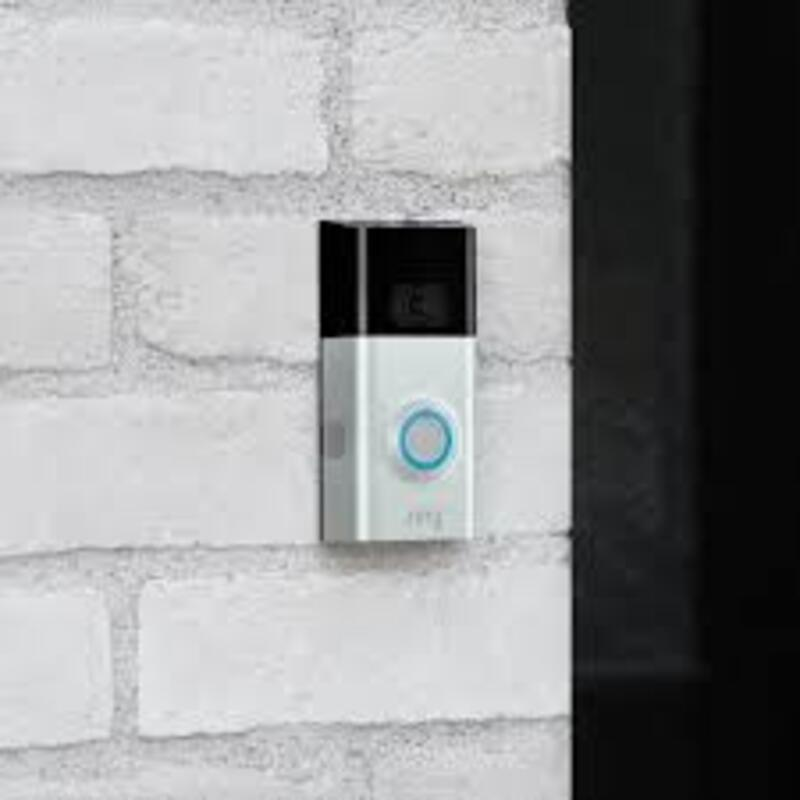doorbell: (316, 203, 483, 559)
